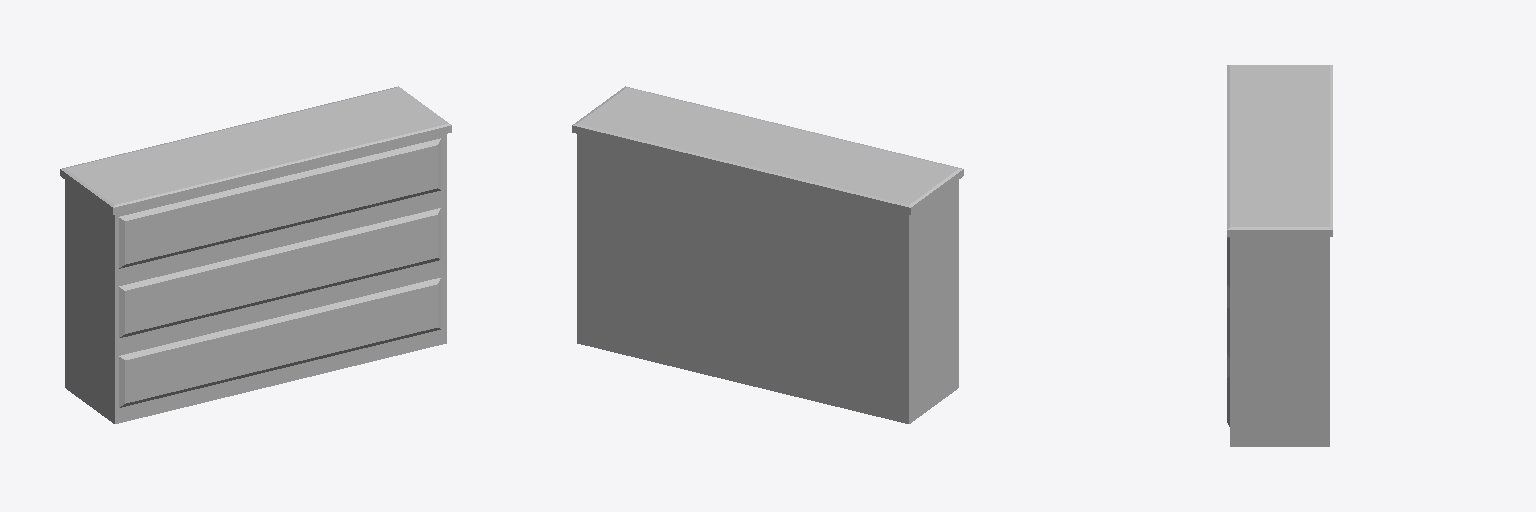
The model's file is wardrobe1.obj.
The picture shows the model from 3 angles: view 1: azimuth 30°, elevation 25°; view 2: azimuth 150°, elevation 25°; view 3: azimuth 270°, elevation 25°; orthographic projection.
Bounding box in the file's own units: 2.04 × 1.26 × 0.5551.